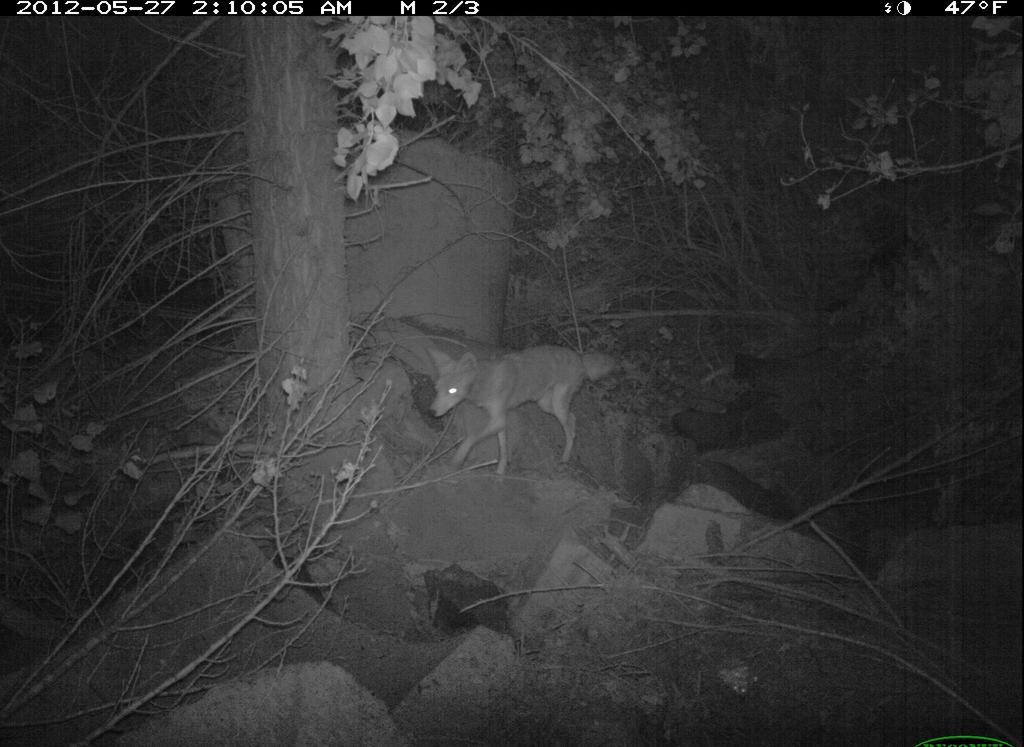coyote: (419, 338, 624, 483)
